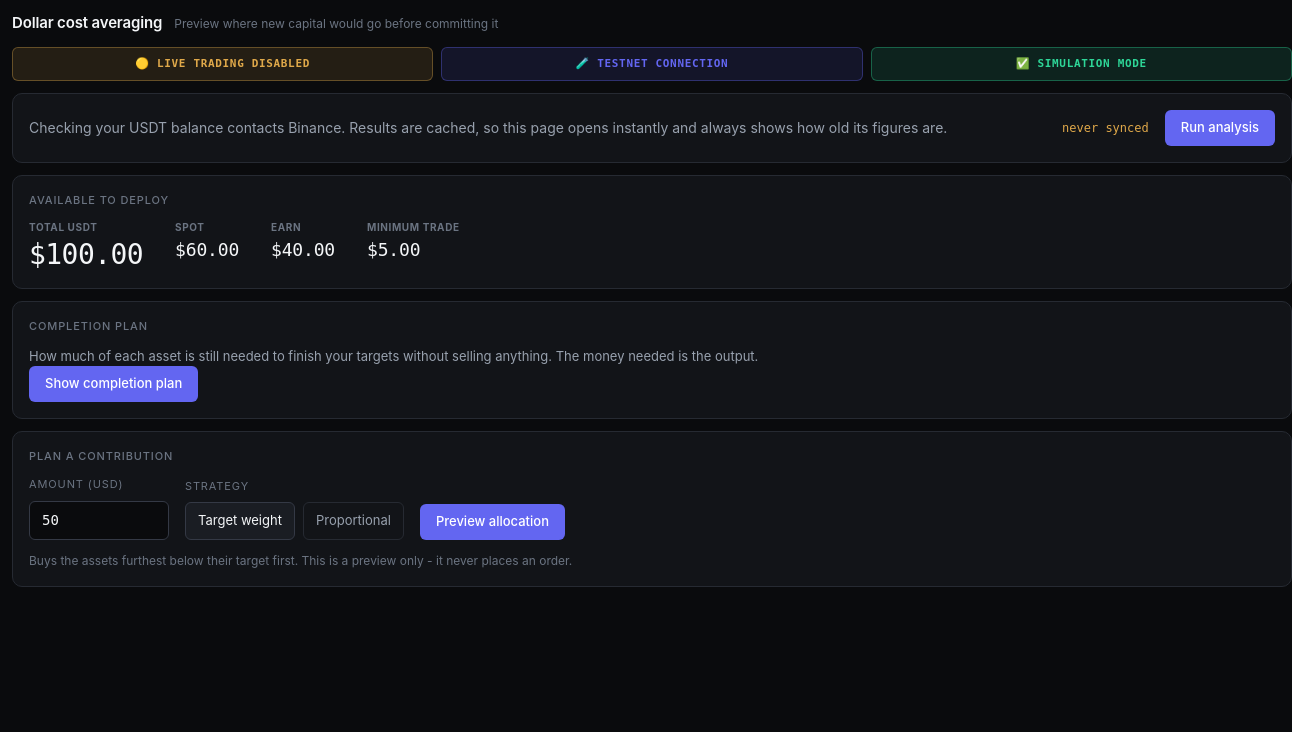
Test: Dca completion plan › renders the invalid message instead of a table when there is no anchor
The image size is (1292, 732).
Click the button "Show completion plan". click: (114, 384)
box: [29, 366, 198, 402]
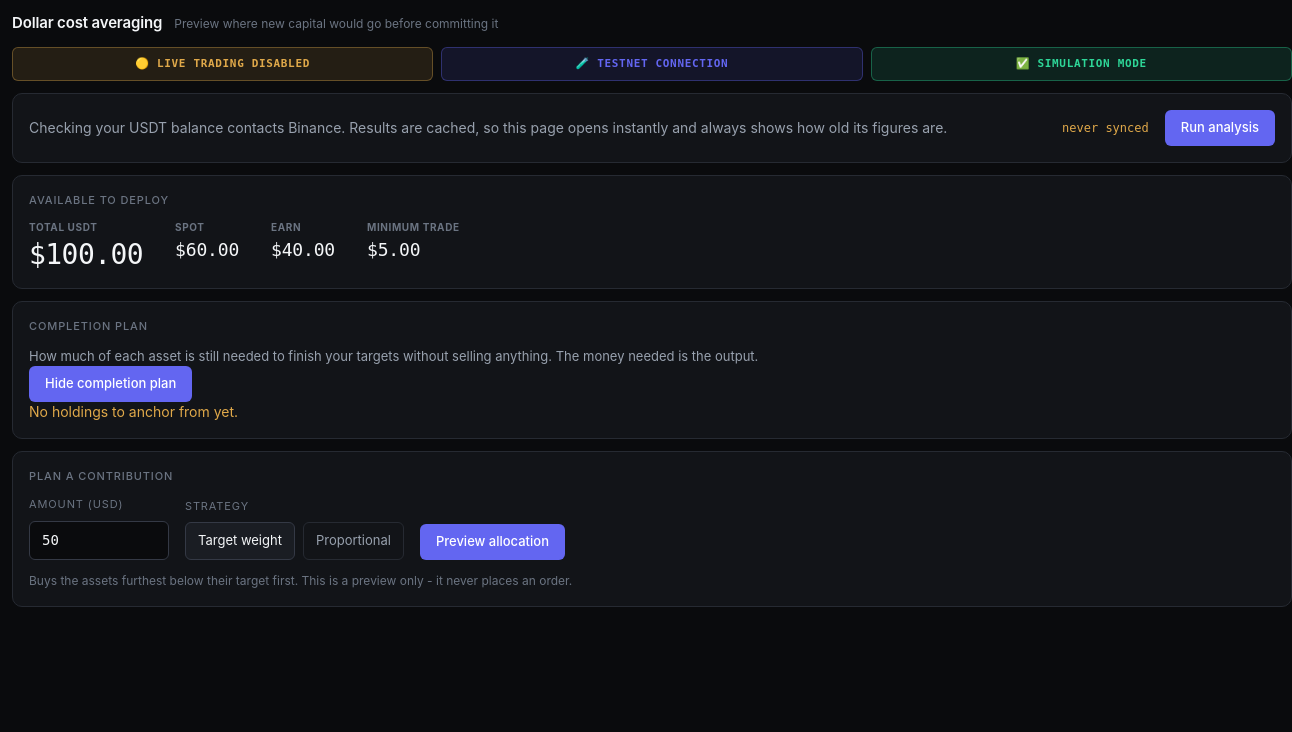
Check: the text "No holdings to anchor from yet." is shown, box [29, 402, 238, 420]
